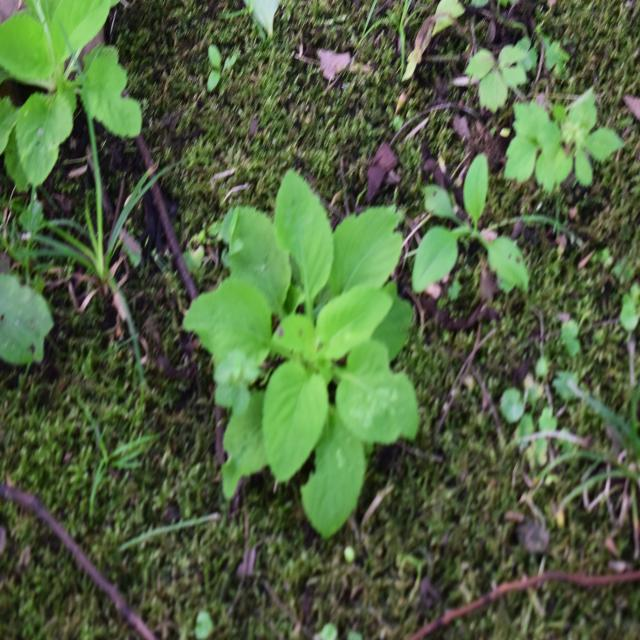Viola: (211, 171, 432, 526)
